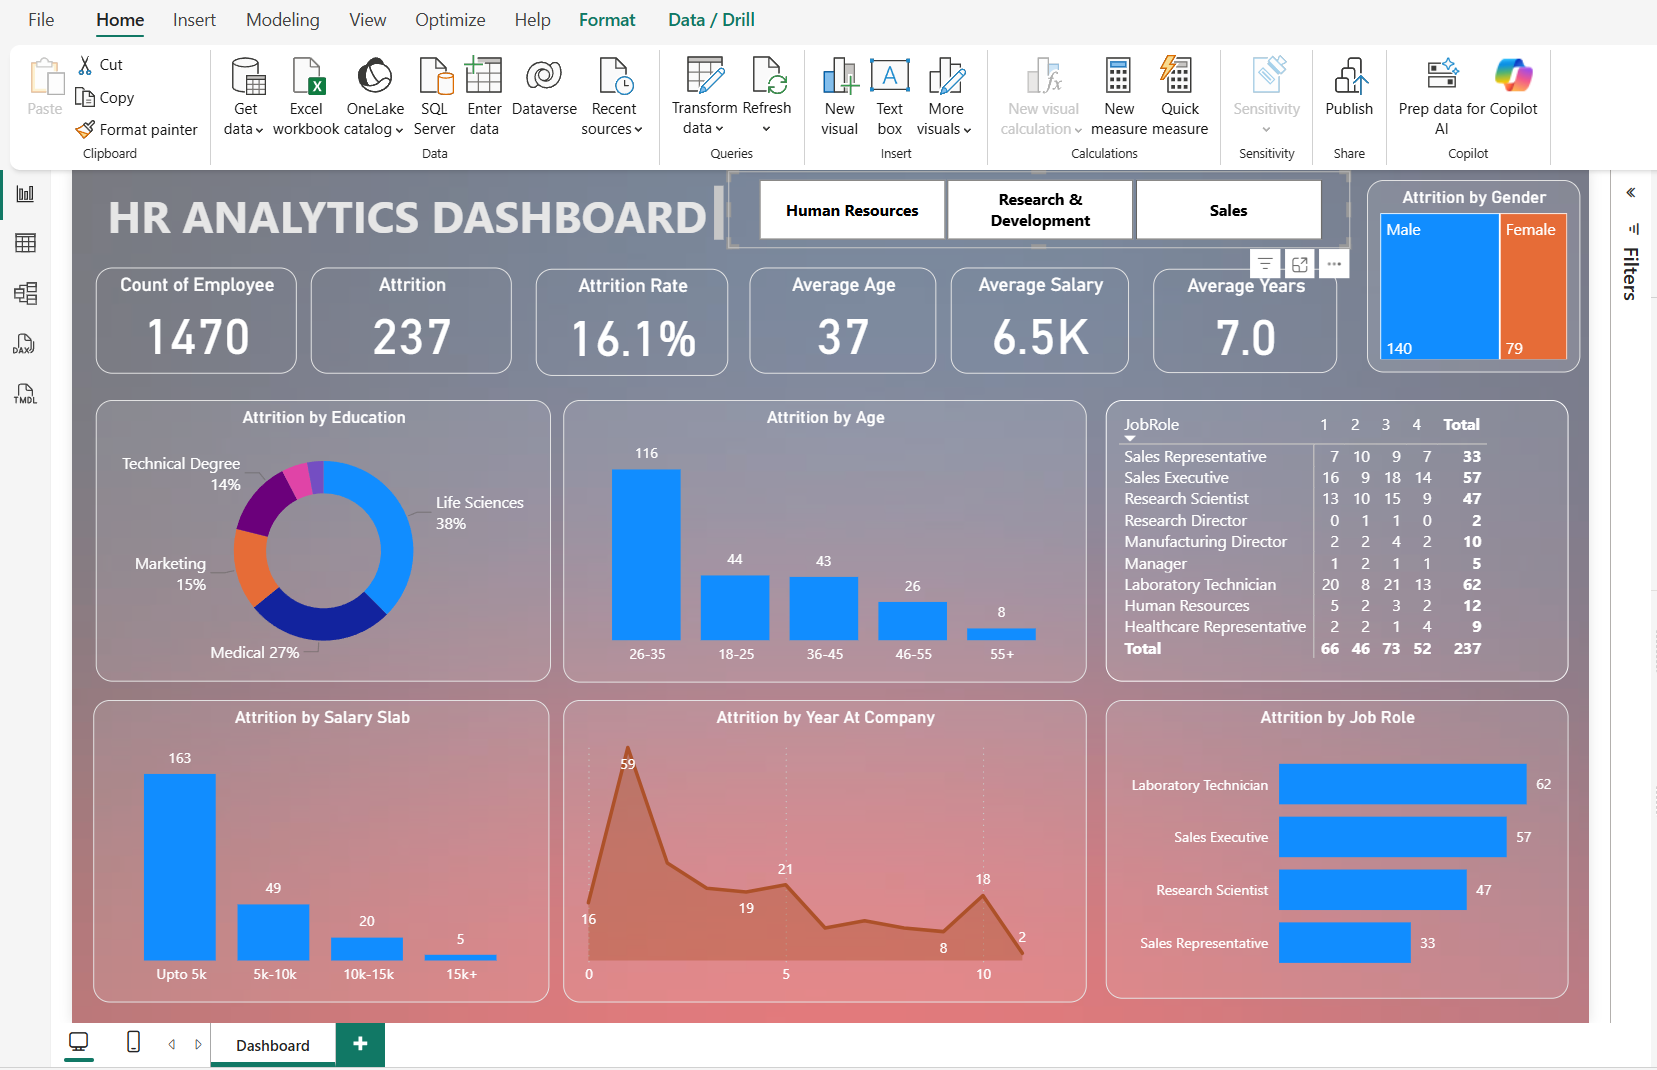

Layout of this report page (visuals, bound fields, positions):
{"tool":"powerbi","page":{"name":"Dashboard","canvas":[1280,720],"ordinal":0},"visuals":[{"type":"card","title":"Count of Employee","fields":{"Values":["CountNonNull(HR_Analytics.EmpID)"]},"box":[19.6,81.9,170,89.3],"z":0},{"type":"card","title":"Attrition","fields":{"Values":["Sum(HR_Analytics.AttritionCount)"]},"box":[201.8,81.9,170,89.3],"z":1000},{"type":"card","title":"Attrition Rate","fields":{"Values":["HR_Analytics.AttritonRate"]},"box":[391.3,83.1,162.6,90.5],"z":2000},{"type":"card","title":"Average Age","fields":{"Values":["Avg(HR_Analytics.Age)"]},"box":[571,81.9,157.7,89.3],"z":3000},{"type":"card","title":"Average Salary","fields":{"Values":["Avg(HR_Analytics.MonthlyIncome)"]},"box":[741,81.9,150.4,89.3],"z":4000},{"type":"card","title":"Average Years","fields":{"Values":["Avg(HR_Analytics.YearsAtCompany)"]},"box":[912.2,83.1,155.3,88],"z":5000},{"type":"donutChart","title":"Attrition by Education","fields":{"Category":["HR_Analytics.EducationField"],"Y":["Sum(HR_Analytics.AttritionCount)"]},"box":[19.6,194.4,384,237.2],"z":6000},{"type":"columnChart","title":"Attrition by Age","fields":{"Category":["HR_Analytics.AgeGroup"],"Y":["Sum(HR_Analytics.AttritionCount)"]},"box":[414.5,194.4,441.4,238.4],"z":7000},{"type":"pivotTable","fields":{"Rows":["HR_Analytics.JobRole"],"Columns":["HR_Analytics.JobSatisfaction"],"Values":["Sum(HR_Analytics.AttritionCount)"]},"box":[871.8,194.4,390.1,237.2],"z":8000},{"type":"columnChart","title":"Attrition by Salary Slab","fields":{"Category":["HR_Analytics.SalarySlab"],"Y":["Sum(HR_Analytics.AttritionCount)"]},"box":[18.3,447.5,385.2,255.6],"z":9000},{"type":"barChart","title":"Attrition by Job Role","fields":{"Category":["HR_Analytics.JobRole"],"Y":["Sum(HR_Analytics.AttritionCount)"]},"box":[871.8,447.5,390.1,251.9],"z":10000},{"type":"areaChart","title":"Attrition by Year At Company","fields":{"Category":["HR_Analytics.YearsAtCompany"],"Y":["Sum(HR_Analytics.AttritionCount)"]},"box":[414.5,447.5,441.4,255.6],"z":11000},{"type":"treemap","title":"Attrition by Gender","fields":{"Group":["HR_Analytics.Gender"],"Values":["Sum(HR_Analytics.AttritionCount)"]},"box":[1091.9,8.6,179.7,162.6],"z":12000},{"type":"slicer","fields":{"Values":["HR_Analytics.Department"]},"box":[553.9,1.2,524.6,64.8],"z":13000},{"type":"textbox","box":[19.6,8.6,534.4,57.5],"z":14000}]}

Visuals, with their boxes in screenshot pixels (x1, y1, x2, y2):
"Count of Employee" card: rect(67, 256, 277, 366)
"Attrition" card: rect(292, 256, 501, 366)
"Attrition Rate" card: rect(525, 258, 725, 369)
"Average Age" card: rect(746, 256, 940, 366)
"Average Salary" card: rect(956, 256, 1141, 366)
"Average Years" card: rect(1166, 258, 1358, 366)
"Attrition by Education" donutChart: rect(67, 395, 540, 687)
"Attrition by Age" columnChart: rect(554, 395, 1097, 688)
pivotTable - HR_Analytics.JobRole x HR_Analytics.JobSatisfaction: rect(1117, 395, 1597, 687)
"Attrition by Salary Slab" columnChart: rect(66, 706, 540, 1021)
"Attrition by Job Role" barChart: rect(1117, 706, 1597, 1017)
"Attrition by Year At Company" areaChart: rect(554, 706, 1097, 1021)
"Attrition by Gender" treemap: rect(1388, 166, 1609, 366)
slicer - HR_Analytics.Department: rect(725, 157, 1371, 237)
textbox: rect(67, 166, 725, 237)
